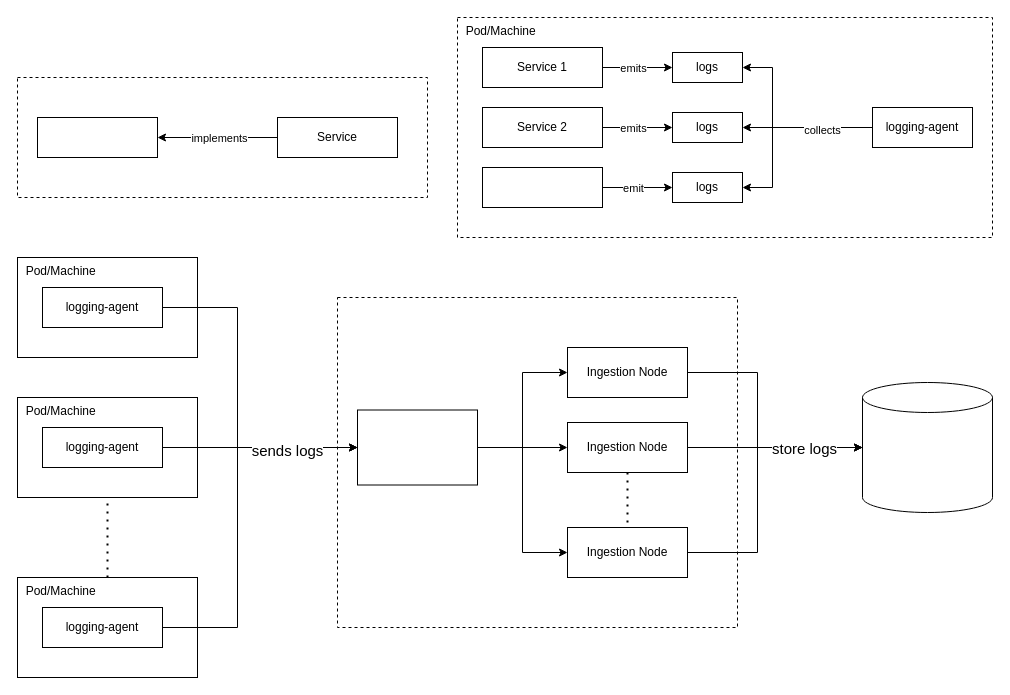
Image size: 1010x695. Some labels were removed from this diagram. Each missing label, with the box of its shape:
Applies for every service: (16, 76, 428, 198)
Centralized system: (336, 296, 738, 628)
Database: (862, 382, 992, 512)
Load Balancer: (356, 409, 478, 485)
Logger-sdk: (36, 116, 158, 158)
Others: (482, 166, 602, 208)
